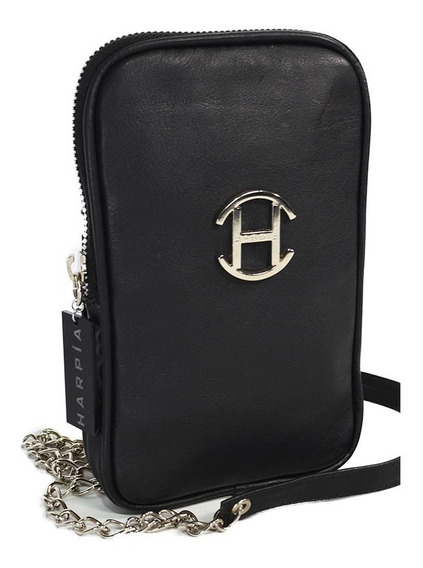cartera: (64, 23, 374, 516)
